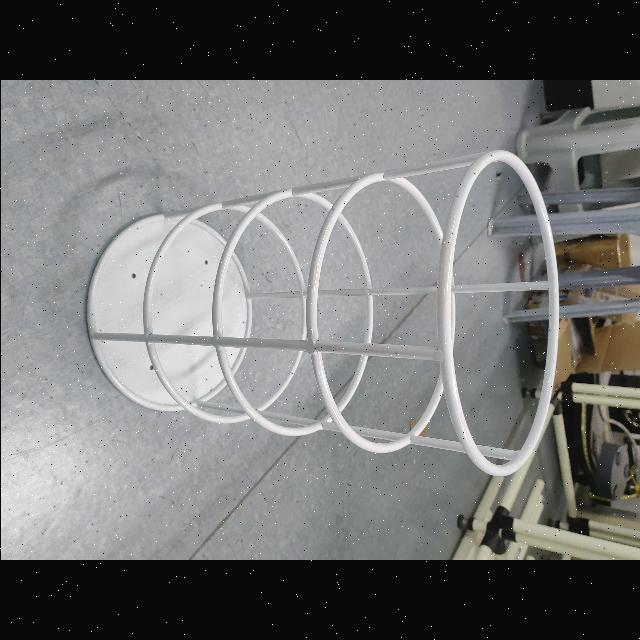S: (78, 146, 566, 480)
